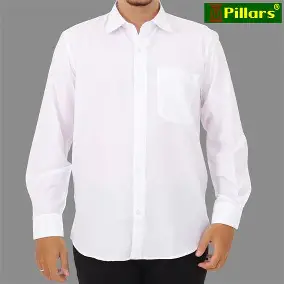celana_benar: (69, 251, 210, 284)
kemeja_benar: (28, 25, 244, 254)
